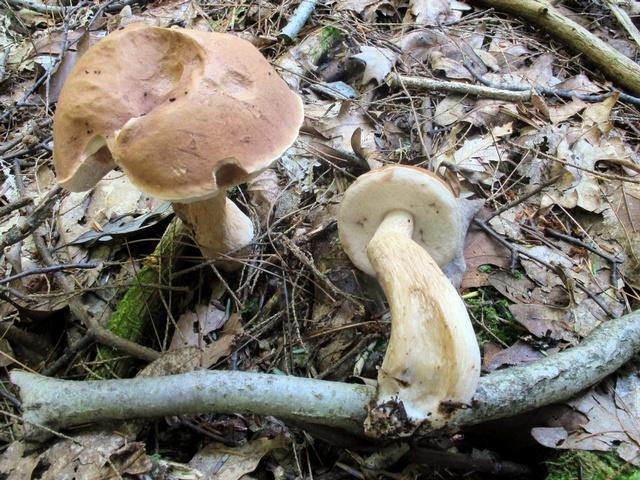poisonous_mushroom: (51, 23, 305, 271), (335, 162, 482, 438)
